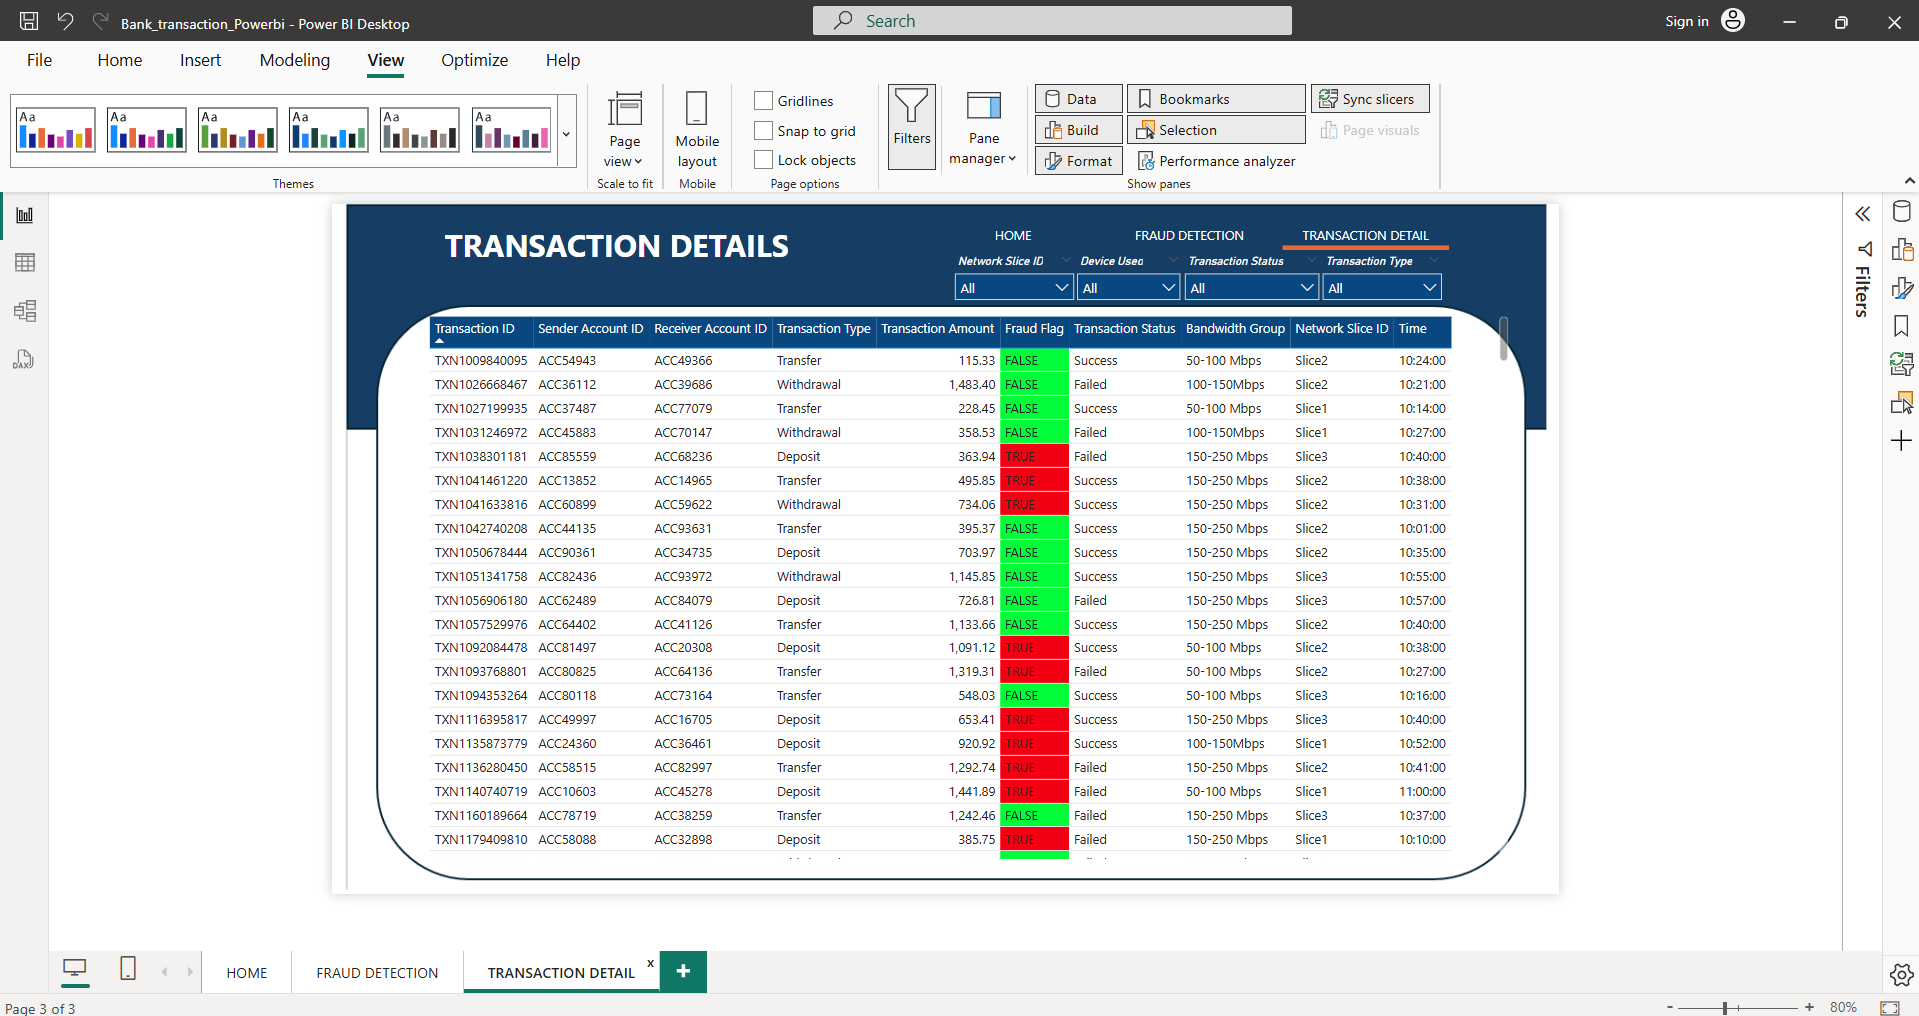

The page's visual inventory and layout, read from the dashboard file:
{"tool":"powerbi","page":{"name":"TRANSACTION DETAIL","canvas":[1280,720],"ordinal":2},"visuals":[{"type":"tableEx","fields":{"Values":["bank transaction_data (1).Transaction ID","bank transaction_data (1).Sender Account ID","bank transaction_data (1).Receiver Account ID","bank transaction_data (1).Transaction Type","bank transaction_data (1).Transaction Amount","bank transaction_data (1).Fraud Flag","bank transaction_data (1).Transaction Status","bank transaction_data (1).Bandwidth Group","bank transaction_data (1).Network Slice ID","bank transaction_data (1).Time"]},"box":[96,112,1136,576],"z":0},{"type":"textbox","box":[112,16,384,64],"z":1000},{"type":"pageNavigator","box":[624,16,544,32],"z":2000},{"type":"slicer","fields":{"Values":["bank transaction_data (1).Transaction Type"]},"box":[1024,48,144,64],"z":3000},{"type":"slicer","fields":{"Values":["bank transaction_data (1).Network Slice ID"]},"box":[640,48,144,64],"z":4000},{"type":"slicer","fields":{"Values":["bank transaction_data (1).Device Used"]},"box":[768,48,128,64],"z":5000},{"type":"slicer","fields":{"Values":["bank transaction_data (1).Transaction Status"]},"box":[880,48,160,64],"z":6000}]}

Visuals, with their boxes on the page's 1280x720 design canvas (x1, y1, x2, y2). These are canvas units, not pixel positions in the 1919x1016 screenshot, which may show the page scaled, cropped or inside an application window:
tableEx - bank transaction_data (1).Transaction ID x bank transaction_data (1).Sender Account ID: x1=96, y1=112, x2=1232, y2=688
textbox: x1=112, y1=16, x2=496, y2=80
pageNavigator: x1=624, y1=16, x2=1168, y2=48
slicer - bank transaction_data (1).Transaction Type: x1=1024, y1=48, x2=1168, y2=112
slicer - bank transaction_data (1).Network Slice ID: x1=640, y1=48, x2=784, y2=112
slicer - bank transaction_data (1).Device Used: x1=768, y1=48, x2=896, y2=112
slicer - bank transaction_data (1).Transaction Status: x1=880, y1=48, x2=1040, y2=112
